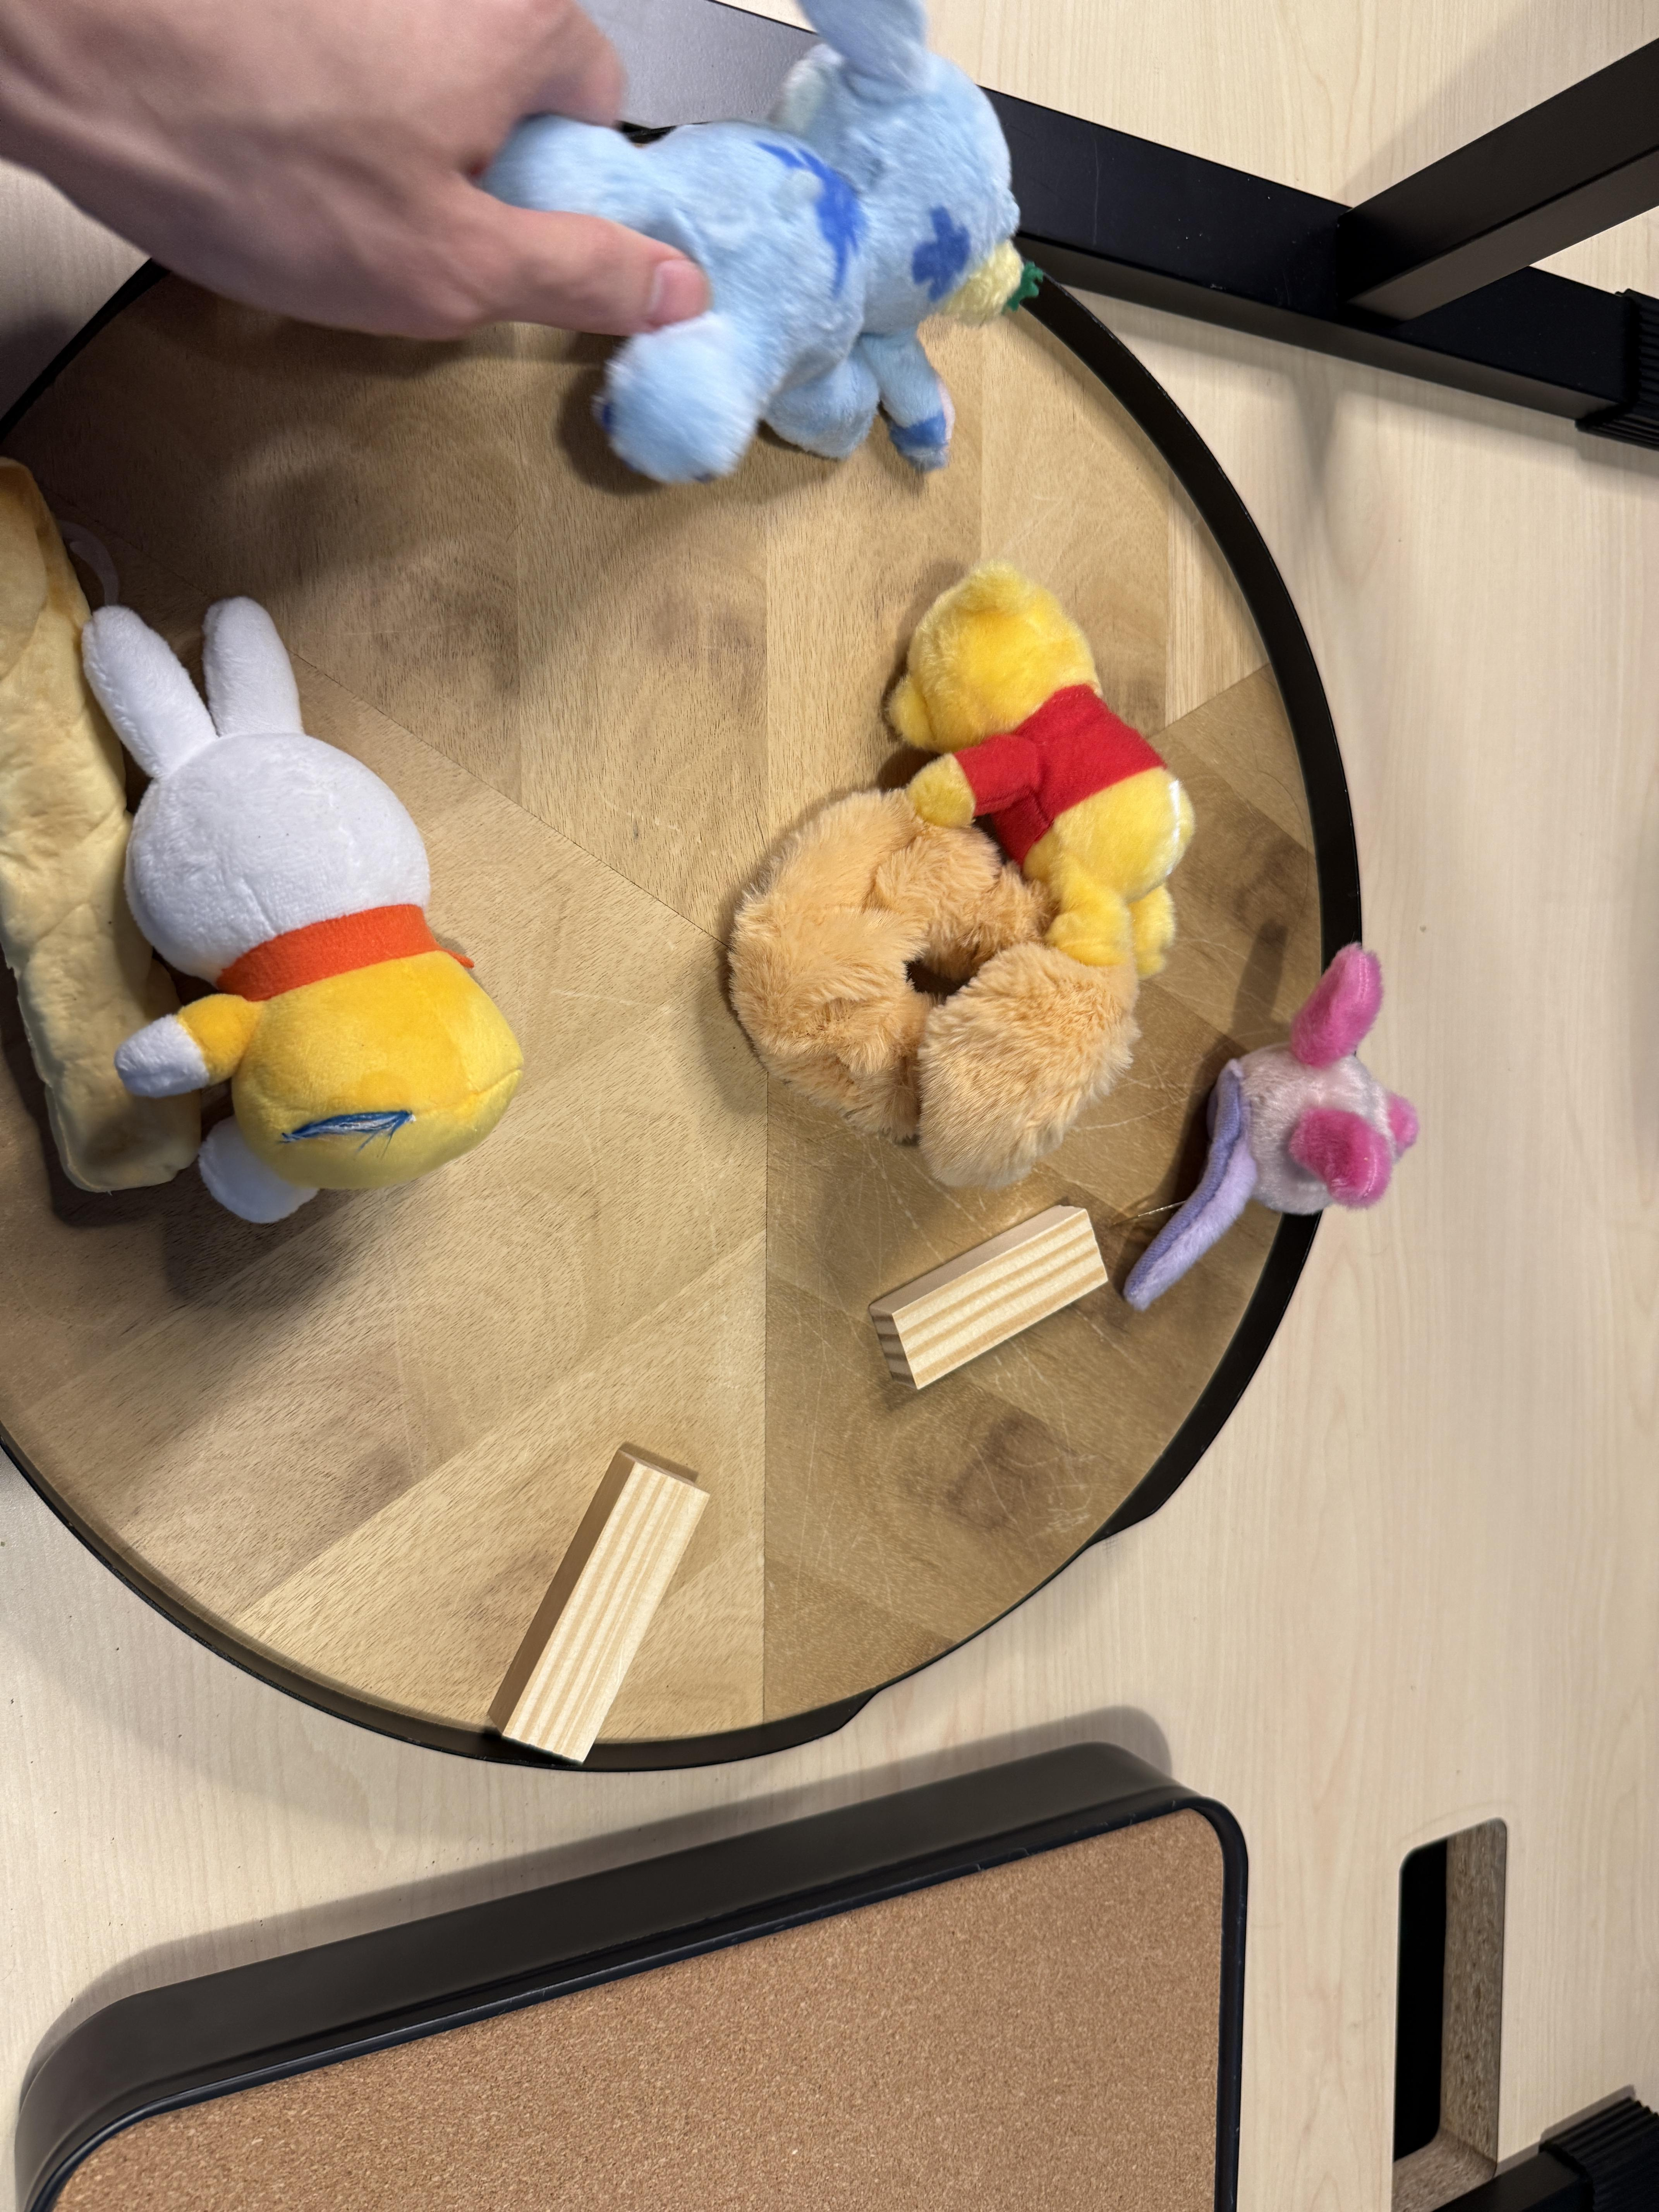block: (504, 1456, 718, 1770), (887, 1197, 1122, 1409)
bread: (0, 453, 202, 1186)
doll: (728, 570, 1197, 1174), (82, 601, 526, 1223), (495, 0, 1030, 479), (1143, 941, 1441, 1310)
